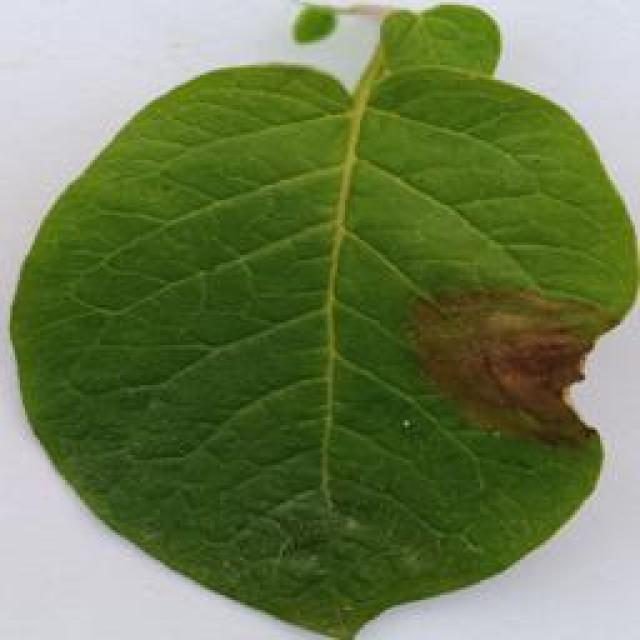Potato_Late_Blight: (10, 7, 622, 637)
